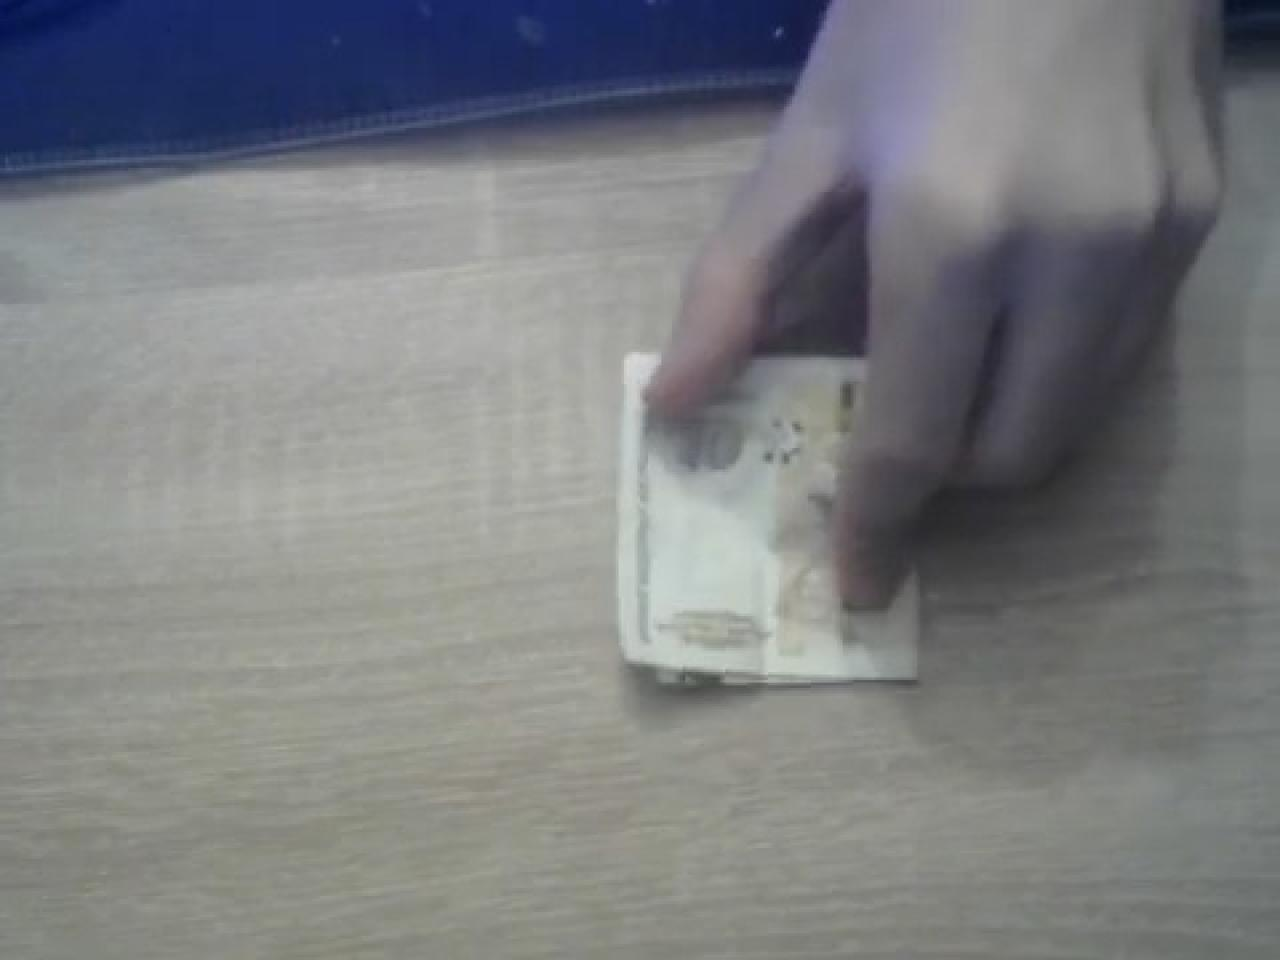10leva: (614, 344, 925, 691)
